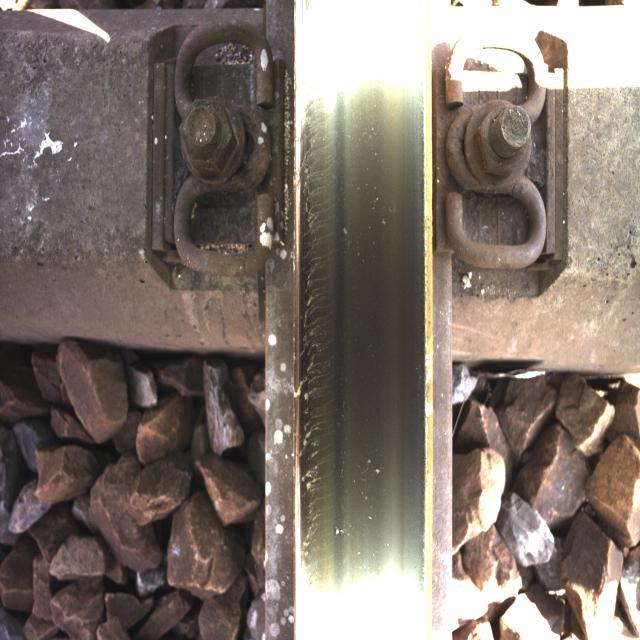scar: (295, 67, 360, 588)
